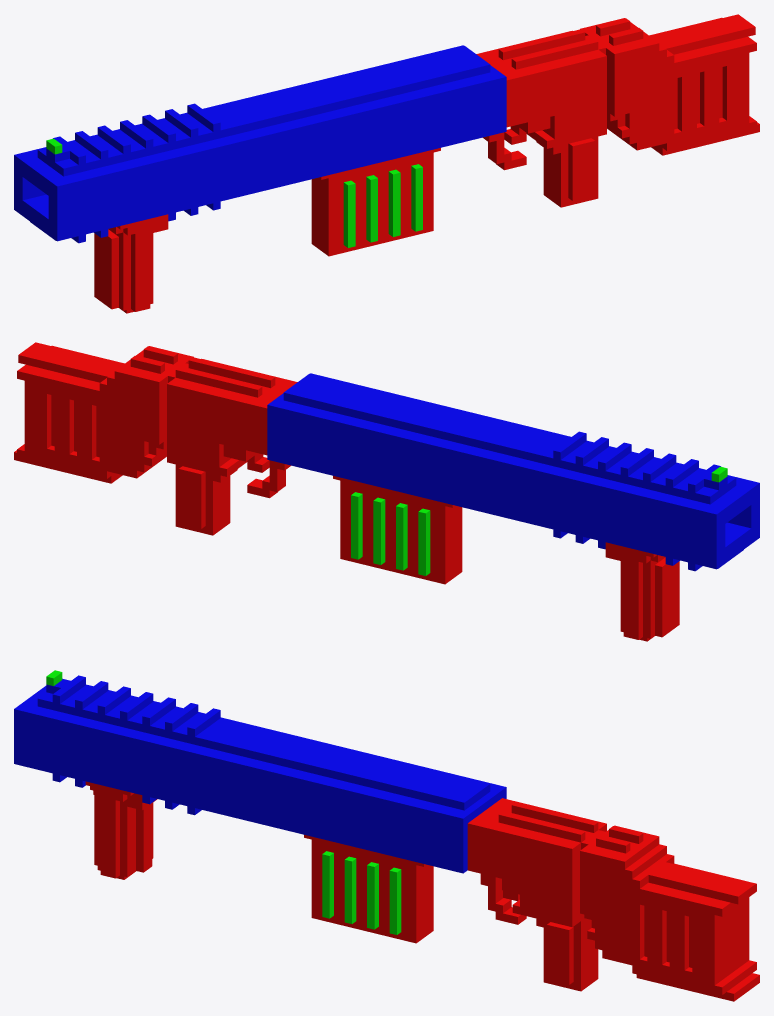
Rendered from Shotgun1.fbx.
The picture shows the model from 3 angles, top to bottom: view 1: azimuth 30°, elevation 25°; view 2: azimuth 150°, elevation 25°; view 3: azimuth 330°, elevation 25°; orthographic projection.
Visible parts, largest first — view 1: Shorguyn1; view 2: Shorguyn1; view 3: Shorguyn1.
Boxes of the visible parts, bbox=[...] form: Shorguyn1: bbox=[14, 14, 759, 313]; Shorguyn1: bbox=[14, 342, 759, 641]; Shorguyn1: bbox=[14, 670, 759, 1001].
Bounding box in the file's own units: 950 × 230 × 100.
Materials: 1 (1 with a texture image).
